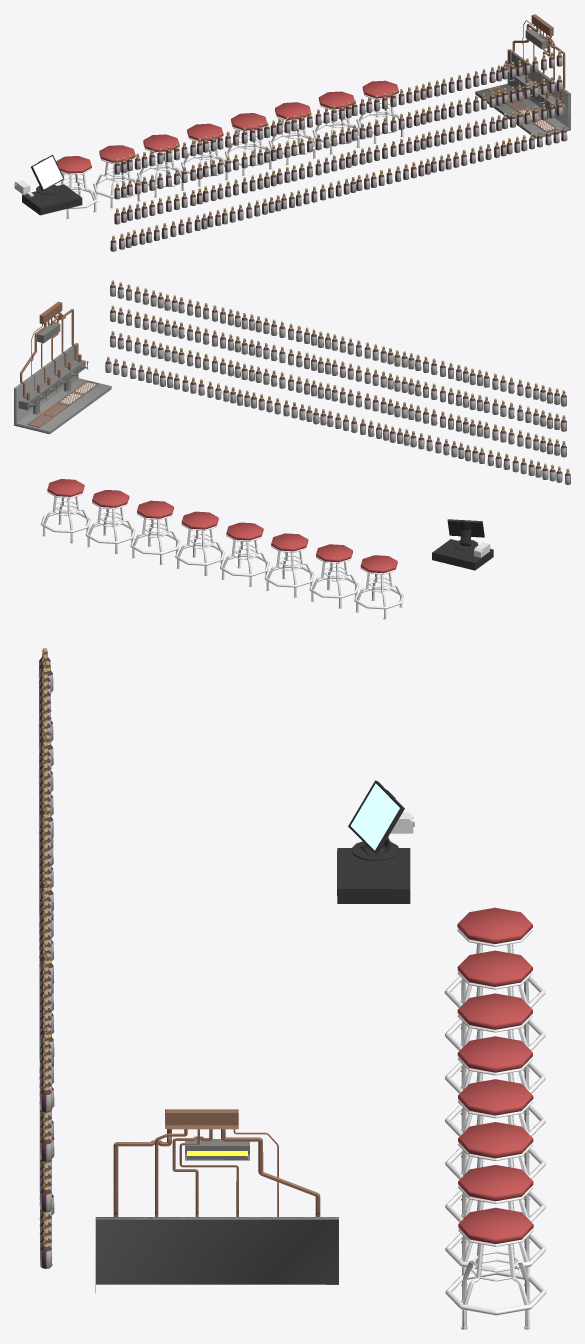
Rendered from MiniBar.fbx.
3 views of the same model, one above another, from view 1: azimuth 30°, elevation 25°; view 2: azimuth 150°, elevation 25°; view 3: azimuth 270°, elevation 25° (orthographic). The views are drawn at different scales.
Parts seen in each view (by area): view 1: Minibar; view 2: Minibar; view 3: Minibar.
Part boxes in pixels (x1=…): Minibar: x1=14, y1=14, x2=570, y2=251; Minibar: x1=14, y1=280, x2=570, y2=619; Minibar: x1=38, y1=648, x2=546, y2=1329.
Bounding box in the file's own units: 1359 × 407 × 625.
